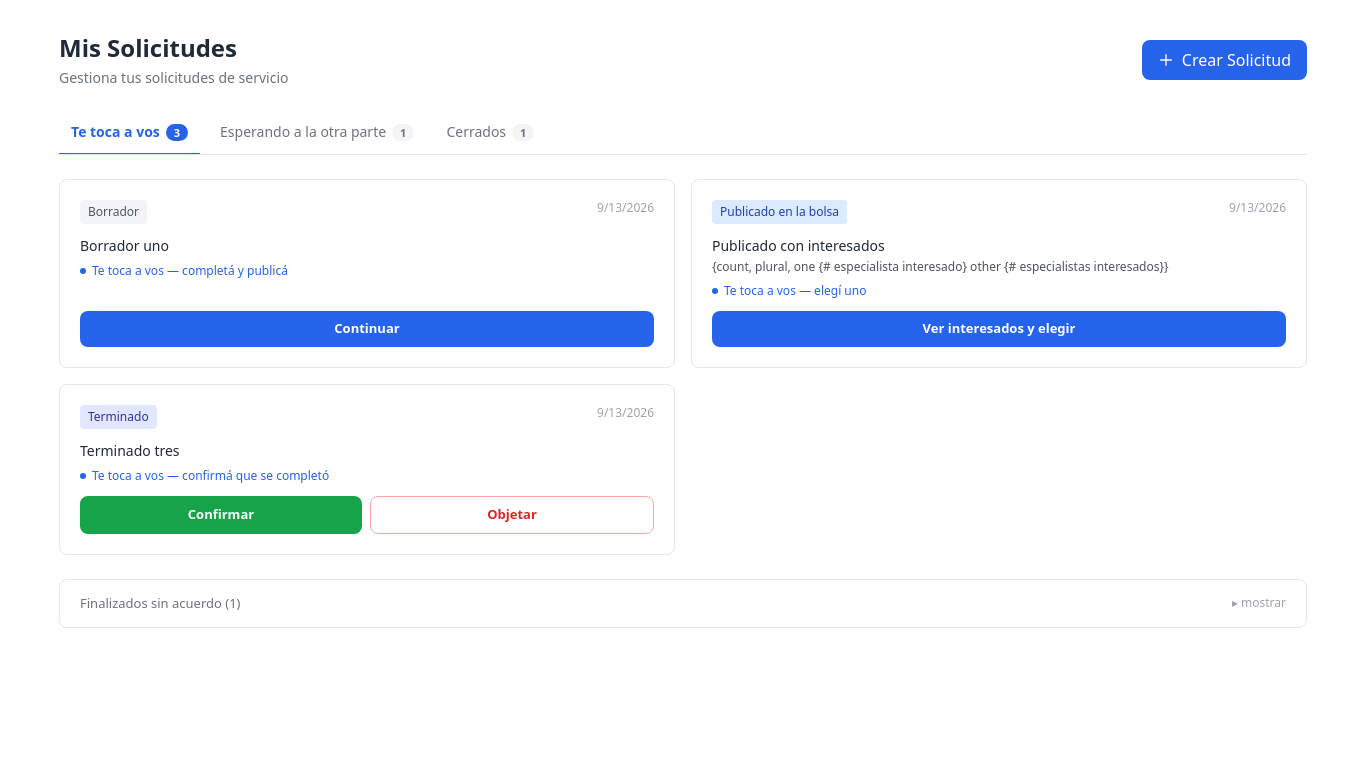
Test: ClientDashboardPage tabs › keeps final no-agreement requests out of the tabs, in the collapsed strip
Expected: the text "Rechazado cinco" is not shown
Expected: the text "Finalizados sin acuerdo (1)" is shown, [80, 594, 240, 613]
Click the button "Finalizados sin acuerdo (1) ▸ mostrar" at (160, 602), box [60, 580, 1306, 627]
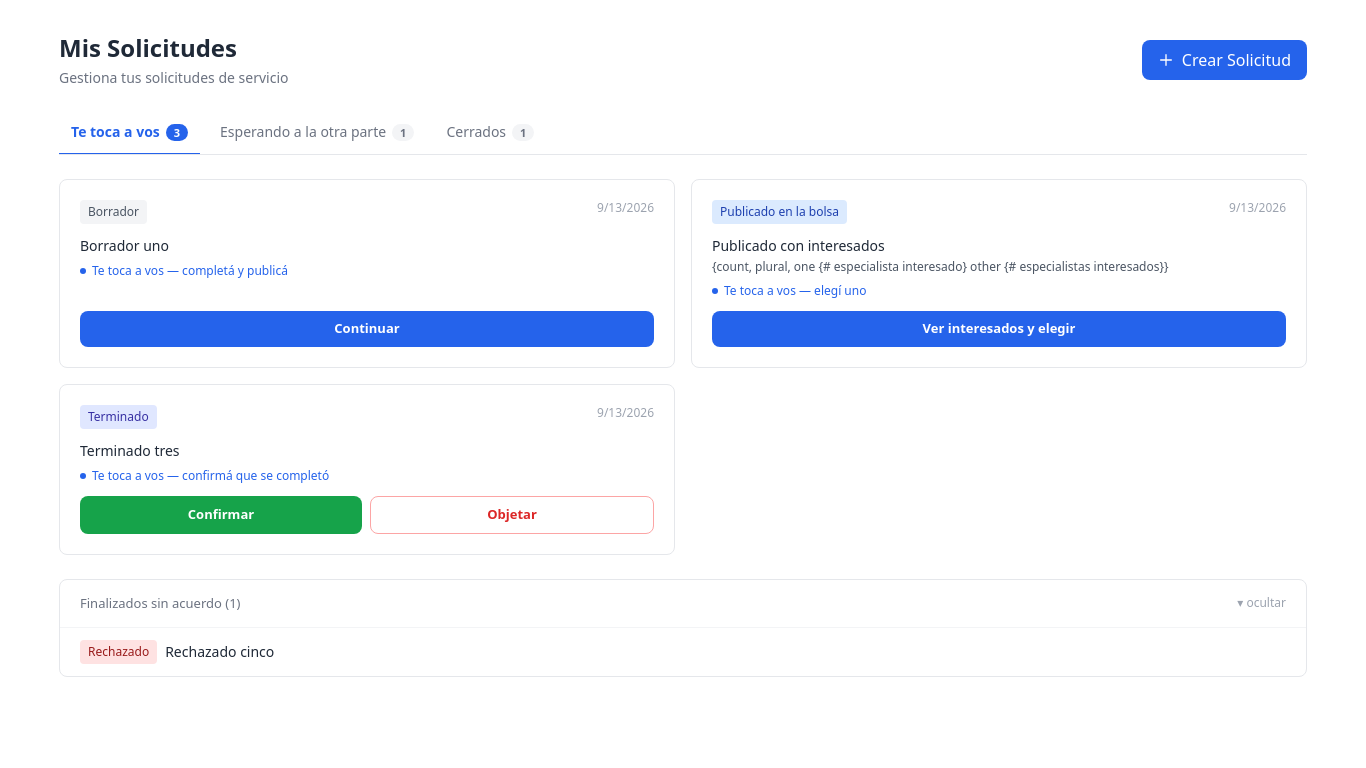
Expected: the link "Rechazado cinco" is shown, [165, 642, 274, 662]
